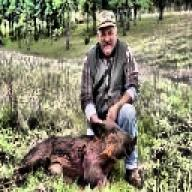boar: (12, 117, 136, 192)
